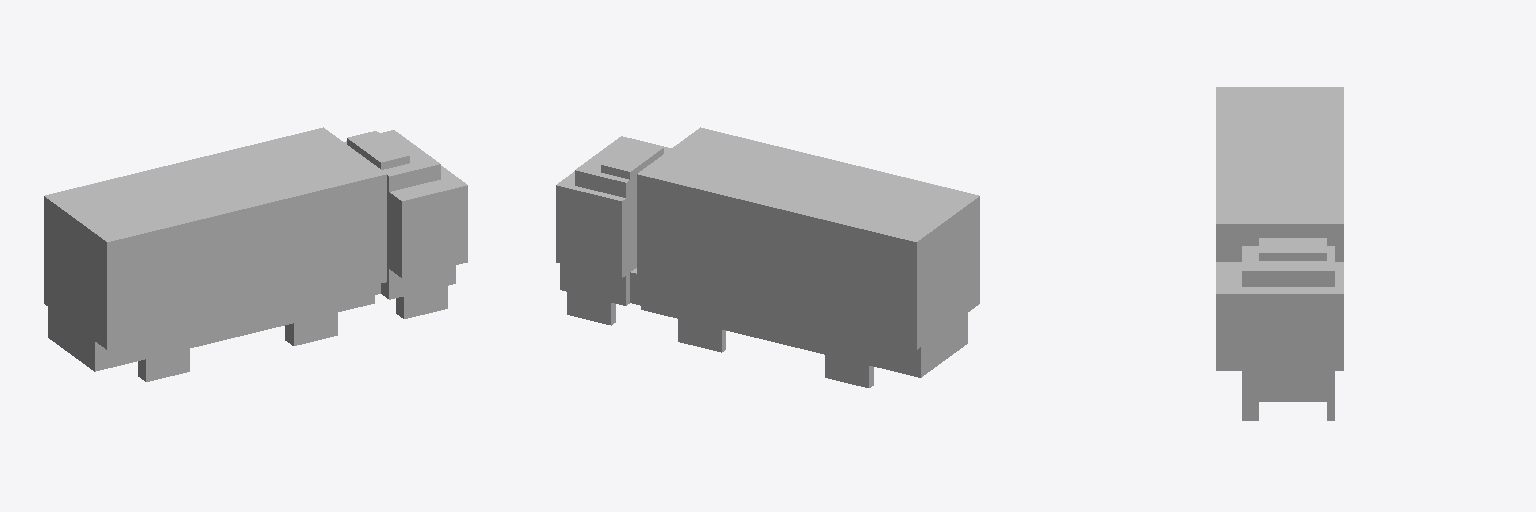
The model's file is Truck.obj.
3 views of the same model, side by side, from view 1: azimuth 30°, elevation 25°; view 2: azimuth 150°, elevation 25°; view 3: azimuth 270°, elevation 25° (orthographic).
Parts seen in each view (by area): view 1: object 1; view 2: object 1; view 3: object 1.
Part boxes in pixels (bbox=[...]): object 1: bbox=[44, 127, 467, 381]; object 1: bbox=[556, 127, 979, 387]; object 1: bbox=[1216, 87, 1343, 420].
Size of the model in its own units: 4.9 by 2.1 by 1.5.